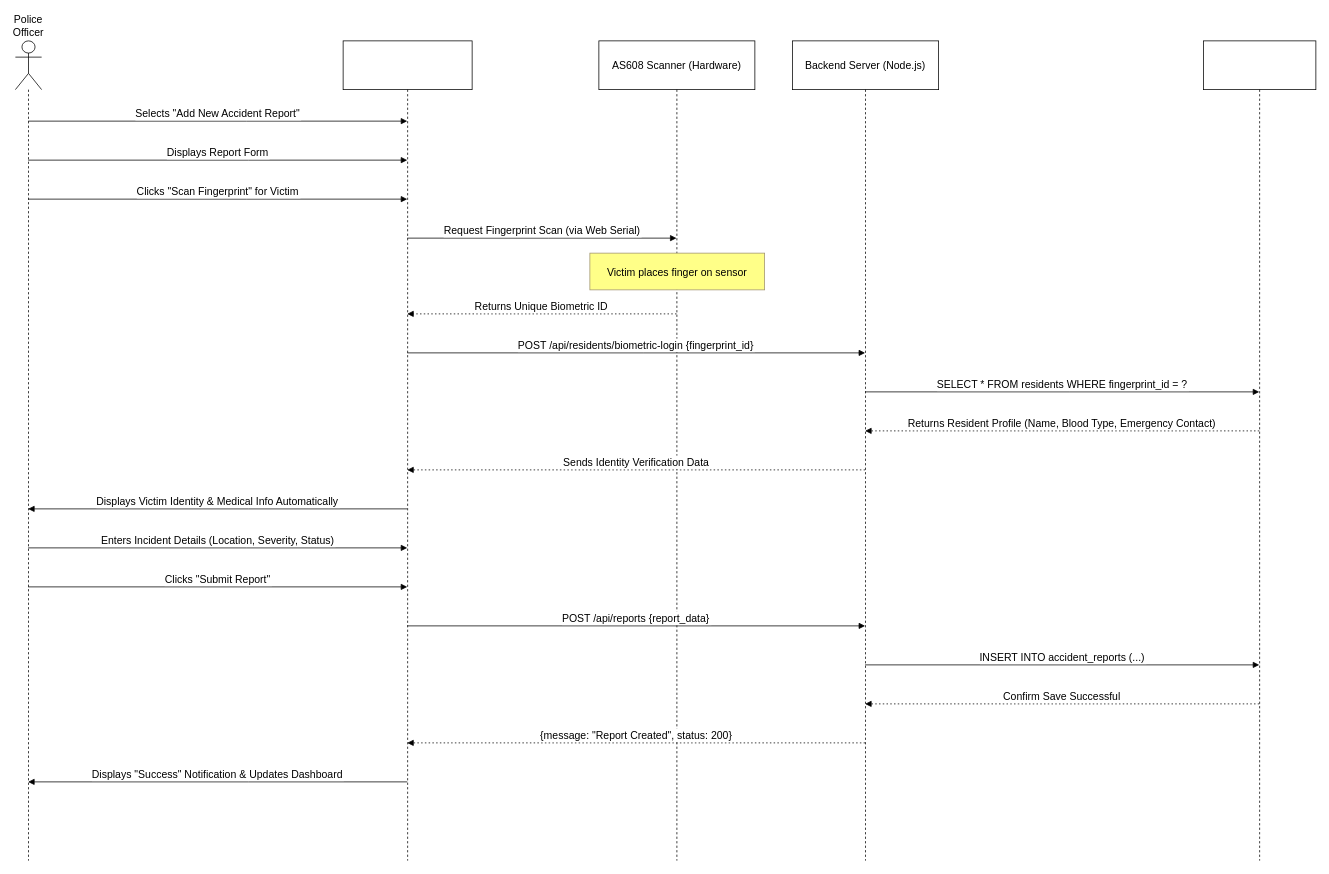
This 1329x874 diagram has some shape labels left out. The box of each missing label's shape, as (x1, y1, x2, y2) in pixels:
Police Portal (Web UI): (342, 40, 472, 861)
SQLite Database: (1203, 40, 1316, 861)
